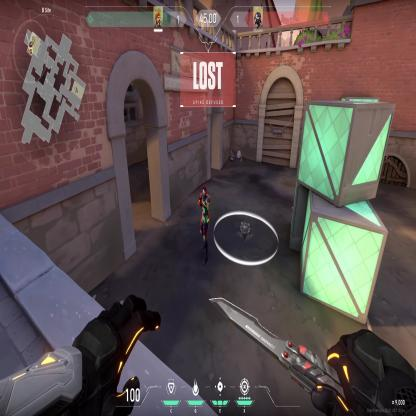enemy: (198, 182, 210, 265)
